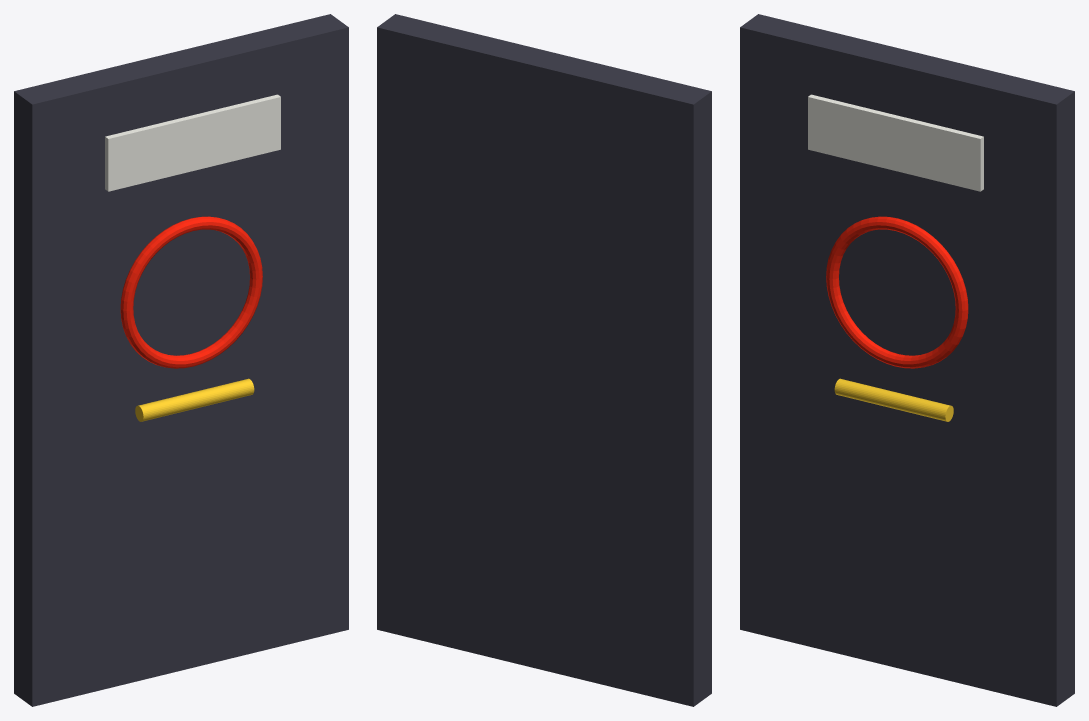
The model's file is thrown_door.obj.
3 renders of one model, left to right at view 1: azimuth 30°, elevation 25°; view 2: azimuth 150°, elevation 25°; view 3: azimuth 330°, elevation 25°, orthographic.
Parts seen in each view (by area): view 1: Cube.002, Cube.003, Torus, Cylinder, Cylinder.001; view 2: Cube.002; view 3: Cube.002, Cube.003, Torus, Cylinder.001, Cylinder.
Part boxes in pixels (box(x1,y1,x2,y2)): Cube.002: box(14, 14, 348, 706); Cube.003: box(105, 94, 280, 191); Torus: box(120, 216, 262, 368); Cylinder: box(135, 390, 207, 421); Cylinder.001: box(184, 378, 254, 410); Cube.002: box(377, 14, 711, 706); Cube.002: box(740, 14, 1074, 706); Cube.003: box(808, 94, 983, 191); Torus: box(826, 216, 968, 368); Cylinder.001: box(881, 390, 953, 421); Cylinder: box(834, 378, 904, 409).
Bounding box in the file's own units: 2.2 × 4 × 0.32.
